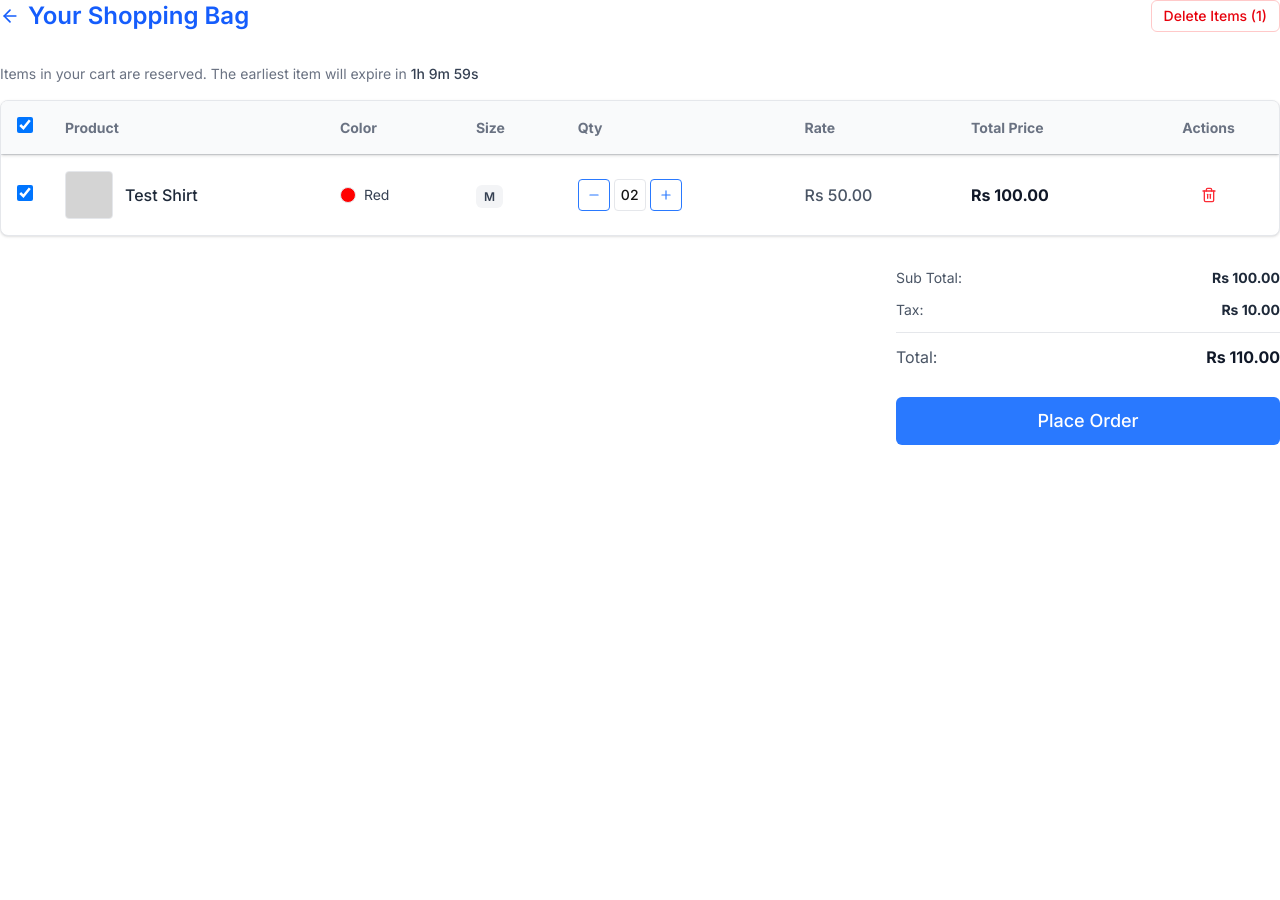
Test: CartPage Client Component Tests › places order successfully and shows success dialog
Check: the text "Test Shirt" is shown, box 125,183 -> 198,207
Click the button "Place Order" at [1088, 421], box 896,397 -> 1279,445
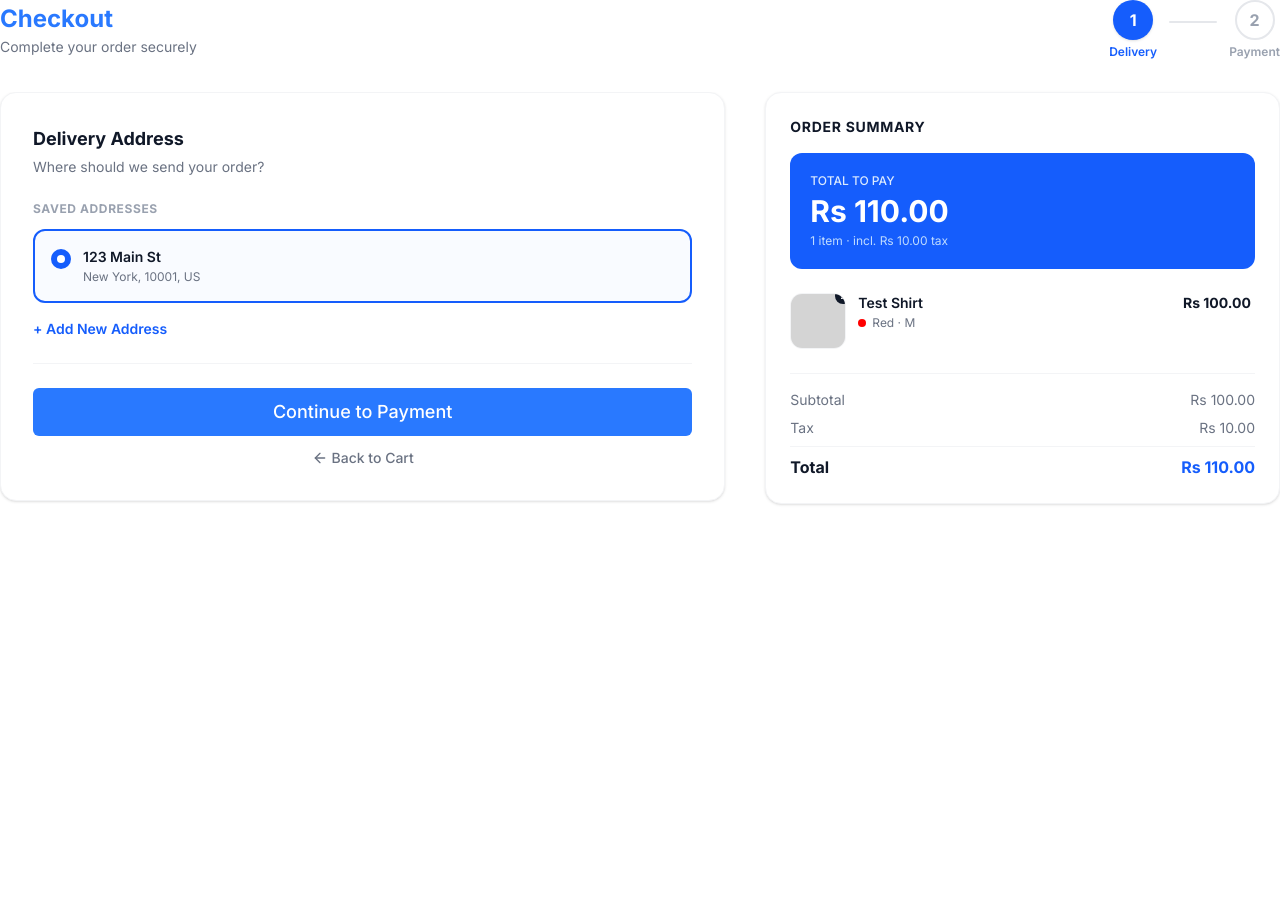
Check: the heading "Delivery Address" is shown, box 33,128 -> 184,149
Click the button "Continue to Payment" at [363, 412], box 33,388 -> 692,436
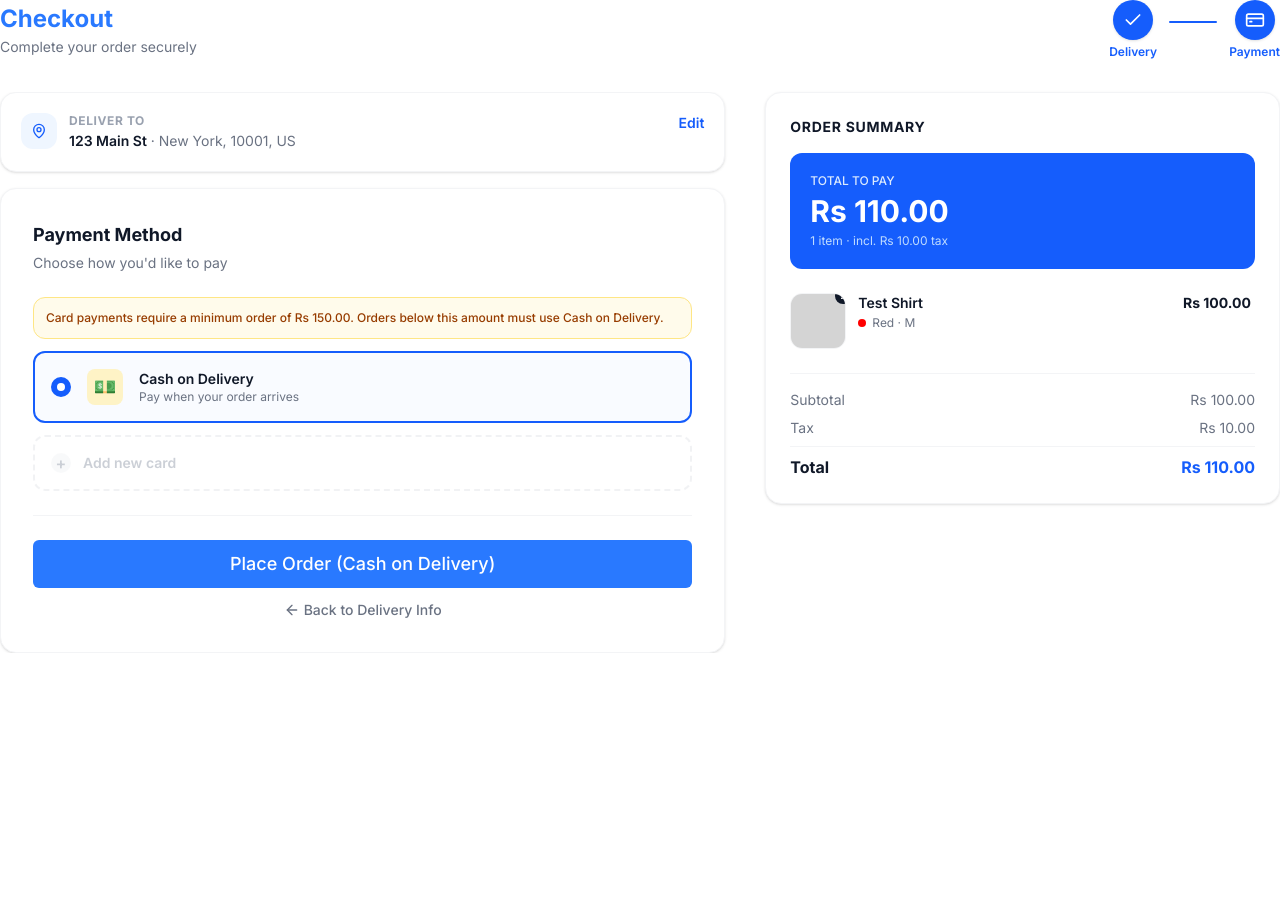
Check: the heading "Payment Method" is shown, box 33,224 -> 182,245
Click the button "Place Order (Cash on Delivery)" at [363, 564], box 33,540 -> 692,588
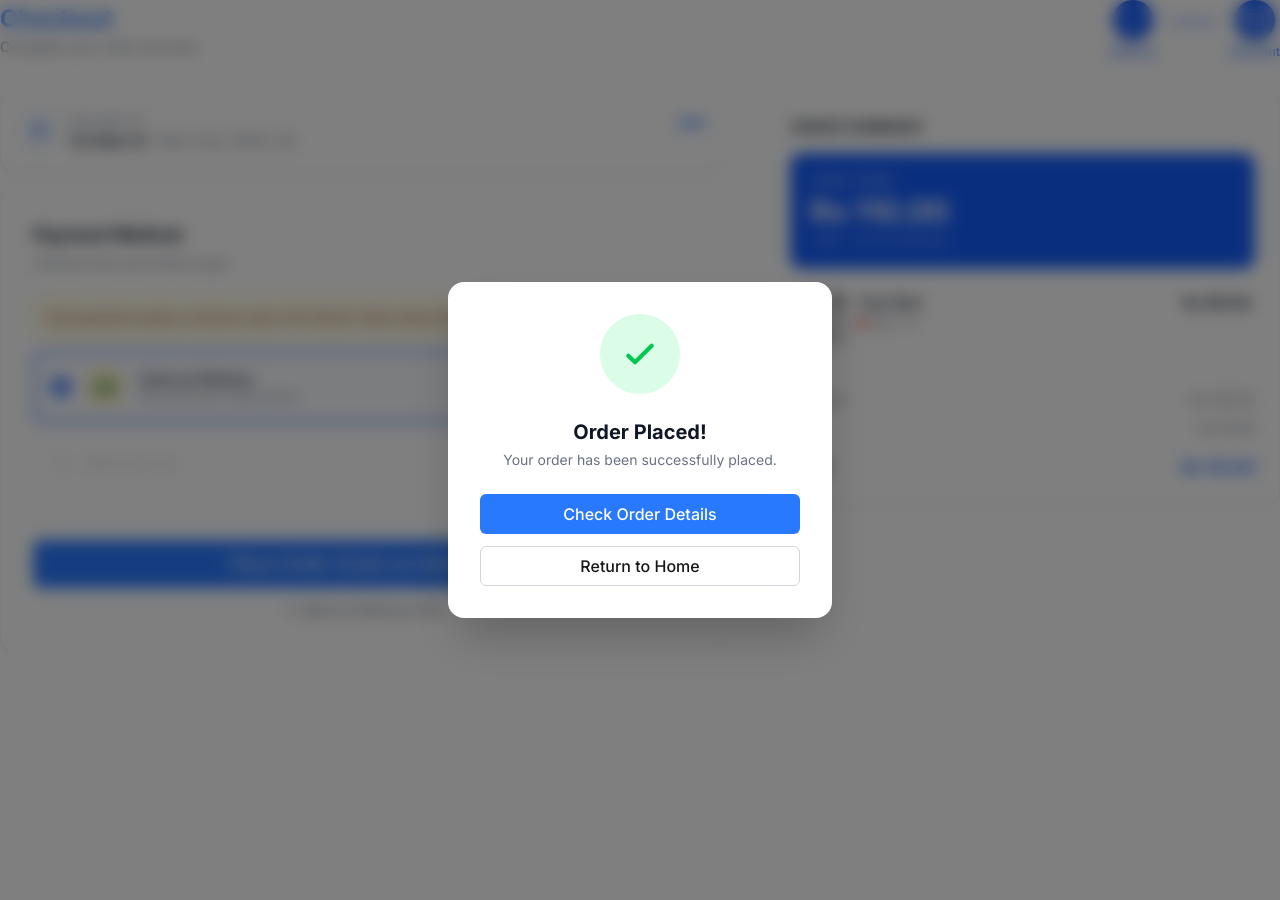
Check: the heading "Order Placed!" is shown, box 573,420 -> 707,444
